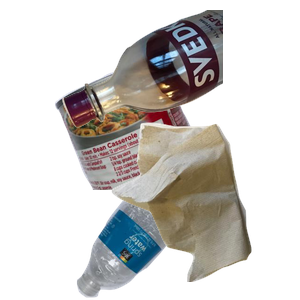glass: (60, 10, 300, 130)
metal: (52, 57, 260, 237)
plastic: (74, 156, 280, 300)
trash: (109, 120, 300, 300)
